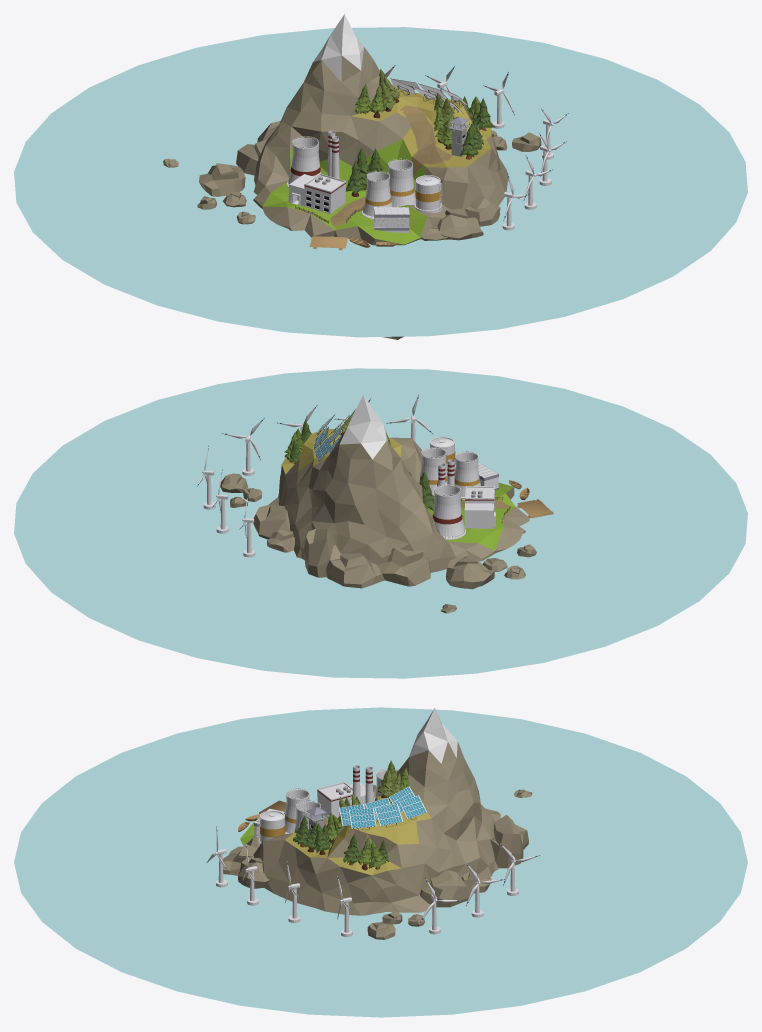
The model's file is mainScene.glb.
3 views of the same model, one above another, from view 1: azimuth 30°, elevation 25°; view 2: azimuth 150°, elevation 25°; view 3: azimuth 270°, elevation 25° (orthographic).
Visible parts, largest first — view 1: water, island.001, Cube, Stone, Cube.002, Cube.009, Stone.010, Cube.010, Cylinder.012, Plane.001, Cube.017, Stone.009 (+2 smaller); view 2: water, island.001, Stone.007, Stone.008, Cube.002, Stone.005, Cube, Stone, Stone.003, Cube.010, Cube.009, Stone.004; view 3: water, island.001, Stone.005, Stone.003, Cube, Cylinder.012, Cube.010, Stone.009, Stone.010, Cylinder.001.
Boxes of the visible parts, left/top/right/bottom form: water: left=14, top=27, right=747, bottom=337; island.001: left=253, top=14, right=508, bottom=339; Cube: left=288, top=173, right=345, bottom=214; Stone: left=199, top=163, right=245, bottom=196; Cube.002: left=287, top=136, right=321, bottom=187; Cube.009: left=388, top=158, right=415, bottom=207; Stone.010: left=437, top=208, right=483, bottom=240; Cube.010: left=362, top=171, right=392, bottom=219; Cylinder.012: left=414, top=175, right=442, bottom=212; Plane.001: left=400, top=105, right=435, bottom=156; Cube.017: left=373, top=207, right=409, bottom=233; Stone.009: left=464, top=196, right=500, bottom=226; water: left=14, top=368, right=747, bottom=678; island.001: left=268, top=395, right=529, bottom=572; Stone.007: left=326, top=552, right=384, bottom=588; Stone.008: left=377, top=547, right=430, bottom=586; Cube.002: left=432, top=484, right=465, bottom=539; Stone.005: left=303, top=528, right=341, bottom=577; Cube: left=464, top=486, right=495, bottom=528; Stone: left=445, top=556, right=494, bottom=589; Stone.003: left=253, top=504, right=289, bottom=539; Cube.010: left=454, top=451, right=480, bottom=499; Cube.009: left=419, top=447, right=447, bottom=495; Stone.004: left=267, top=530, right=294, bottom=552; water: left=14, top=707, right=747, bottom=1017; island.001: left=240, top=708, right=498, bottom=915; Stone.005: left=490, top=814, right=523, bottom=868; Stone.003: left=420, top=870, right=471, bottom=907; Cube: left=317, top=781, right=374, bottom=818; Cylinder.012: left=257, top=810, right=285, bottom=845; Cube.010: left=285, top=788, right=309, bottom=833; Stone.009: left=238, top=856, right=269, bottom=888; Stone.010: left=223, top=843, right=257, bottom=875; Cylinder.001: left=352, top=765, right=373, bottom=808.
Size of the model in its own units: 21.2 by 9.34 by 21.2.
